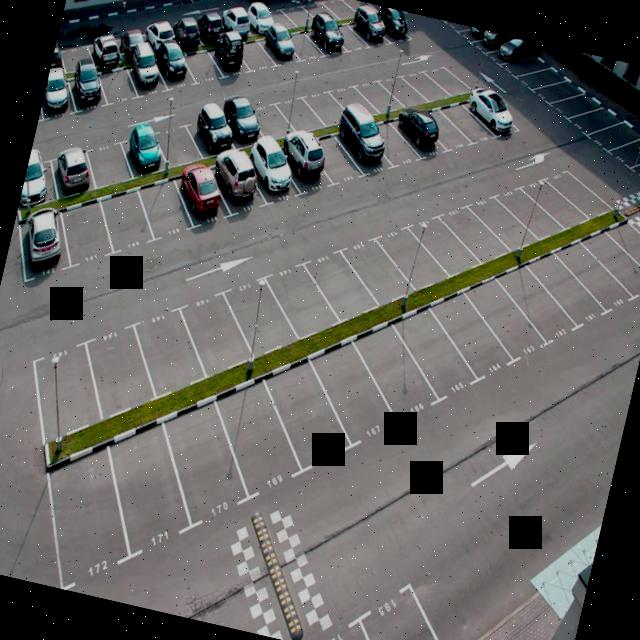car: (5, 201, 76, 292), (164, 164, 232, 233), (184, 96, 243, 172), (264, 134, 334, 197), (204, 158, 272, 222), (326, 116, 396, 178), (40, 134, 101, 203), (239, 137, 299, 203), (119, 118, 172, 185), (386, 105, 451, 159), (214, 94, 270, 156), (466, 85, 515, 141), (18, 150, 60, 212), (63, 62, 110, 116), (482, 31, 542, 72), (298, 20, 351, 61), (150, 45, 198, 89), (256, 24, 306, 66), (368, 5, 416, 44), (114, 18, 152, 66), (208, 36, 250, 78), (348, 11, 391, 52), (90, 27, 124, 74), (168, 12, 206, 54), (194, 0, 229, 45), (128, 56, 168, 94), (142, 12, 178, 52), (469, 27, 518, 56), (40, 78, 74, 119), (240, 0, 277, 37), (220, 2, 253, 40), (456, 24, 503, 44), (46, 42, 68, 84)
free: (190, 368, 318, 503), (144, 392, 268, 531), (240, 348, 375, 474), (22, 438, 144, 574), (94, 418, 200, 568), (290, 328, 418, 452), (366, 300, 492, 408), (334, 320, 450, 430), (407, 284, 526, 384), (349, 552, 482, 640), (444, 272, 560, 367), (499, 242, 614, 336), (469, 259, 588, 348), (170, 280, 259, 395), (16, 336, 110, 442), (211, 262, 305, 368), (294, 236, 386, 332), (132, 292, 215, 396), (534, 238, 636, 320), (85, 313, 160, 421), (255, 256, 344, 347), (359, 212, 454, 297), (329, 227, 414, 313), (558, 223, 640, 308), (427, 196, 515, 274), (396, 210, 486, 286), (457, 189, 545, 258), (488, 177, 570, 245), (48, 196, 115, 274), (540, 156, 616, 224), (510, 175, 589, 238), (90, 187, 158, 259), (130, 186, 198, 250), (307, 130, 368, 197), (76, 136, 136, 202), (360, 115, 424, 175), (345, 70, 411, 126), (271, 79, 328, 143), (155, 108, 205, 176), (244, 86, 300, 146), (302, 74, 358, 130), (369, 66, 427, 120), (595, 216, 640, 285), (495, 35, 552, 88), (416, 101, 472, 152), (528, 66, 584, 116), (547, 81, 605, 128), (324, 76, 378, 126), (438, 104, 497, 148), (584, 114, 638, 162), (564, 94, 618, 142), (519, 50, 568, 101), (398, 64, 448, 108), (418, 58, 468, 102), (96, 62, 140, 112), (274, 23, 328, 61), (232, 32, 278, 72), (326, 18, 374, 54), (607, 129, 640, 181), (58, 36, 96, 80), (178, 45, 222, 81), (259, 0, 296, 32), (281, 0, 318, 29), (300, 0, 337, 25), (319, 0, 357, 22), (629, 143, 640, 199), (336, 0, 374, 15), (446, 21, 482, 35)
